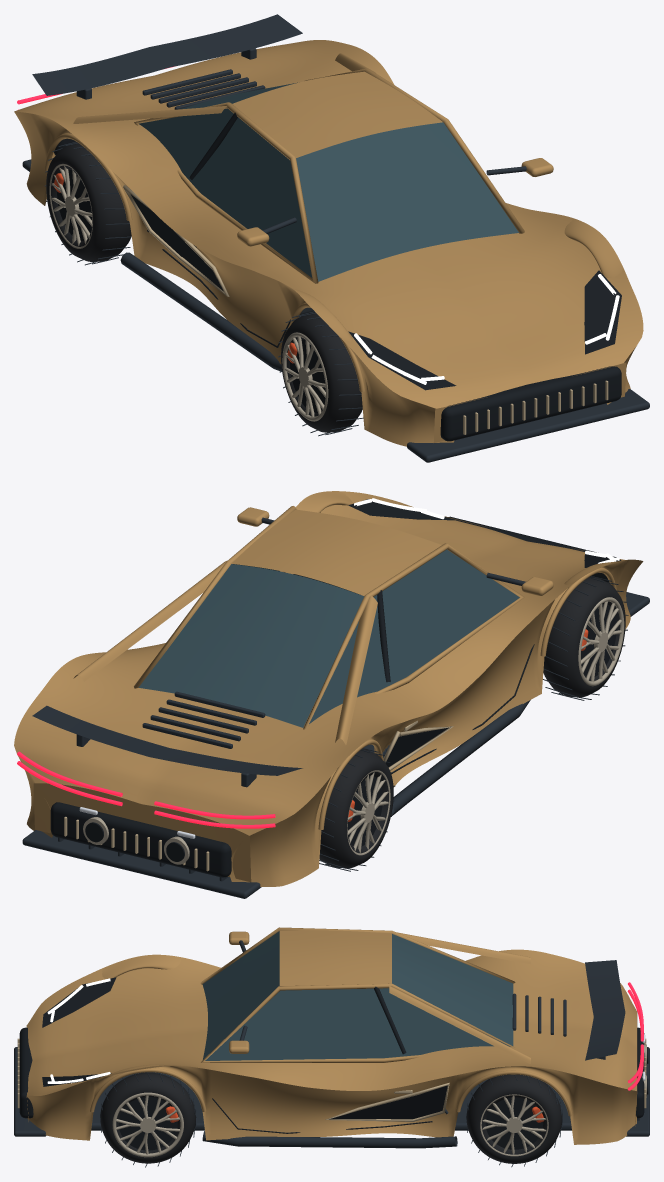
The model's file is orion-r.glb.
3 renders of one model, top to bottom at view 1: azimuth 30°, elevation 25°; view 2: azimuth 150°, elevation 25°; view 3: azimuth 270°, elevation 25°, orthographic. The views are drawn at different scales.
Parts seen in each view (by area): view 1: Formed aluminium upper, Laminated windshield, Undercut sill, Flush side glass, Canopy roof, Swan tail, Recessed bumper, Radial tire.002, Radial tire, Splitter, Forged-carbon side skirt, Painted roof rail (+11 smaller); view 2: Formed aluminium upper, Engine cover glass, Undercut sill, Flush side glass, Canopy roof, Recessed bumper.001, Bumper skin.001, Radial tire, Radial tire.002, Diffuser lip, Swan tail, Painted roof rail (+15 smaller); view 3: Formed aluminium upper, Undercut sill.001, Flush side glass.001, Engine cover glass, Canopy roof, Laminated windshield, Radial tire.003, Radial tire.001, Swan tail, Forged-carbon side skirt.001, Painted roof rail.001, Side radiator inlet.001 (+18 smaller).
Boxes of the visible parts, bbox=[...] form: Formed aluminium upper: bbox=[14, 40, 643, 408]; Laminated windshield: bbox=[296, 122, 518, 281]; Undercut sill: bbox=[14, 111, 454, 446]; Flush side glass: bbox=[138, 108, 312, 277]; Canopy roof: bbox=[232, 71, 442, 157]; Swan tail: bbox=[32, 14, 302, 95]; Recessed bumper: bbox=[440, 366, 621, 441]; Radial tire.002: bbox=[46, 142, 131, 261]; Radial tire: bbox=[281, 312, 362, 432]; Splitter: bbox=[407, 389, 649, 462]; Forged-carbon side skirt: bbox=[120, 252, 281, 371]; Painted roof rail: bbox=[134, 102, 318, 283]; Formed aluminium upper: bbox=[14, 491, 624, 835]; Engine cover glass: bbox=[138, 564, 363, 727]; Undercut sill: bbox=[230, 559, 643, 886]; Flush side glass: bbox=[309, 549, 519, 723]; Canopy roof: bbox=[232, 509, 441, 595]; Recessed bumper.001: bbox=[50, 802, 231, 877]; Bumper skin.001: bbox=[33, 783, 251, 882]; Radial tire: bbox=[543, 577, 625, 697]; Radial tire.002: bbox=[319, 748, 393, 868]; Diffuser lip: bbox=[22, 830, 261, 898]; Swan tail: bbox=[32, 705, 302, 775]; Painted roof rail: bbox=[303, 543, 524, 729]; Formed aluminium upper: bbox=[27, 949, 636, 1095]; Undercut sill.001: bbox=[27, 1064, 636, 1144]; Flush side glass.001: bbox=[205, 988, 510, 1060]; Engine cover glass: bbox=[392, 934, 513, 1045]; Canopy roof: bbox=[279, 930, 391, 985]; Laminated windshield: bbox=[202, 931, 279, 1059]; Radial tire.003: bbox=[466, 1074, 562, 1163]; Radial tire.001: bbox=[100, 1072, 196, 1163]; Swan tail: bbox=[585, 960, 625, 1060]; Forged-carbon side skirt.001: bbox=[202, 1131, 457, 1148]; Painted roof rail.001: bbox=[201, 983, 514, 1062]; Side radiator inlet.001: bbox=[329, 1085, 447, 1119].
Bounding box in the file's own units: 2.2 × 1.38 × 5.04.
